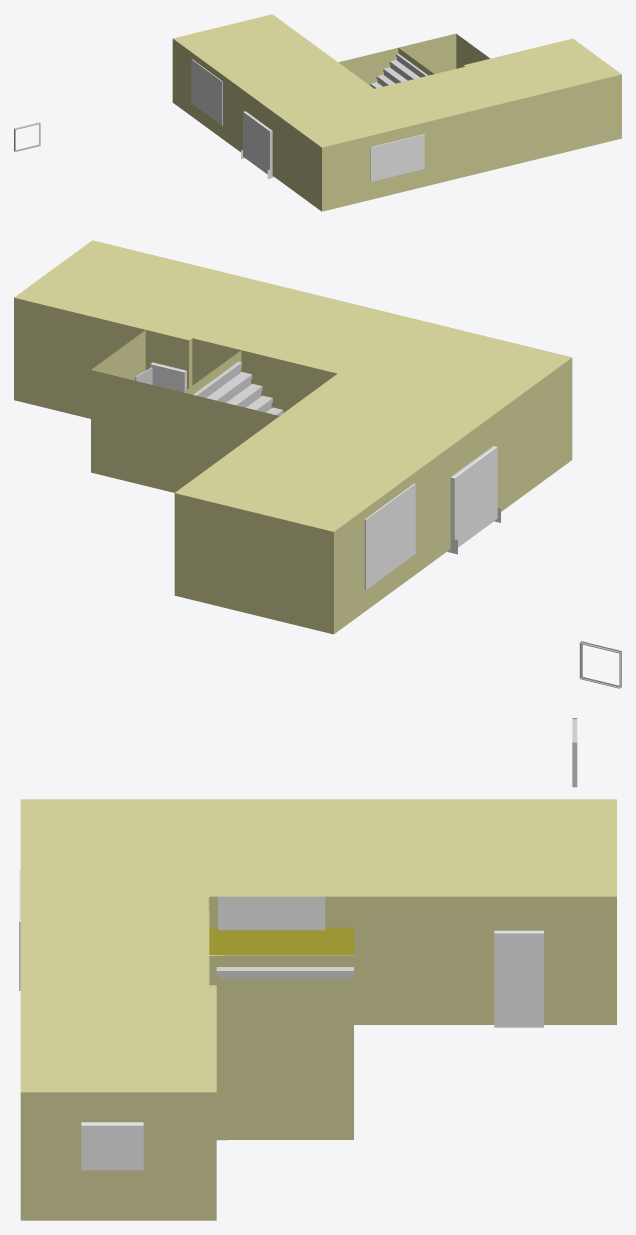
Rendered from house1.fbx.
3 views of the same model, one above another, from view 1: azimuth 30°, elevation 25°; view 2: azimuth 150°, elevation 25°; view 3: azimuth 270°, elevation 25° (orthographic). The views are drawn at different scales.
Parts seen in each view (by area): view 1: Cube.001, Cube, CTRL_Hole.005, CTRL_Hole.007, CTRL_Hole.004, Stairs; view 2: Cube, Cube.001, CTRL_Hole.007, CTRL_Hole.004, Stairs, CTRL_Hole.001; view 3: Cube, Cube.001, CTRL_Hole.002, CTRL_Hole.004, Plane.005, CTRL_Hole.006, Stairs.
Part boxes in pixels (box(x1,y1,x2,y2)): Cube.001: box(274, 38, 621, 211); Cube: box(172, 14, 489, 176); CTRL_Hole.005: box(370, 134, 424, 181); CTRL_Hole.007: box(191, 59, 222, 125); CTRL_Hole.004: box(243, 111, 271, 176); Stairs: box(370, 53, 428, 88); Cube: box(91, 330, 496, 634); Cube.001: box(14, 240, 572, 511); CTRL_Hole.007: box(364, 483, 415, 589); CTRL_Hole.004: box(450, 446, 497, 549); Stairs: box(193, 361, 283, 415); CTRL_Hole.001: box(150, 363, 186, 392); Cube: box(209, 799, 616, 1139); Cube.001: box(20, 799, 353, 1220); CTRL_Hole.002: box(494, 931, 543, 1027); CTRL_Hole.004: box(218, 896, 325, 930); Plane.005: box(216, 927, 353, 955); CTRL_Hole.006: box(81, 1122, 143, 1170); Stairs: box(216, 967, 353, 978).
Bounding box in the file's own units: 2202 × 296 × 1208.
